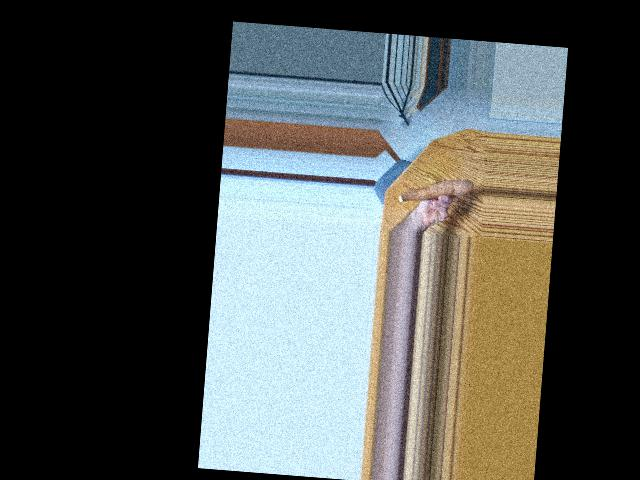sweet_potato: (398, 170, 472, 211)
